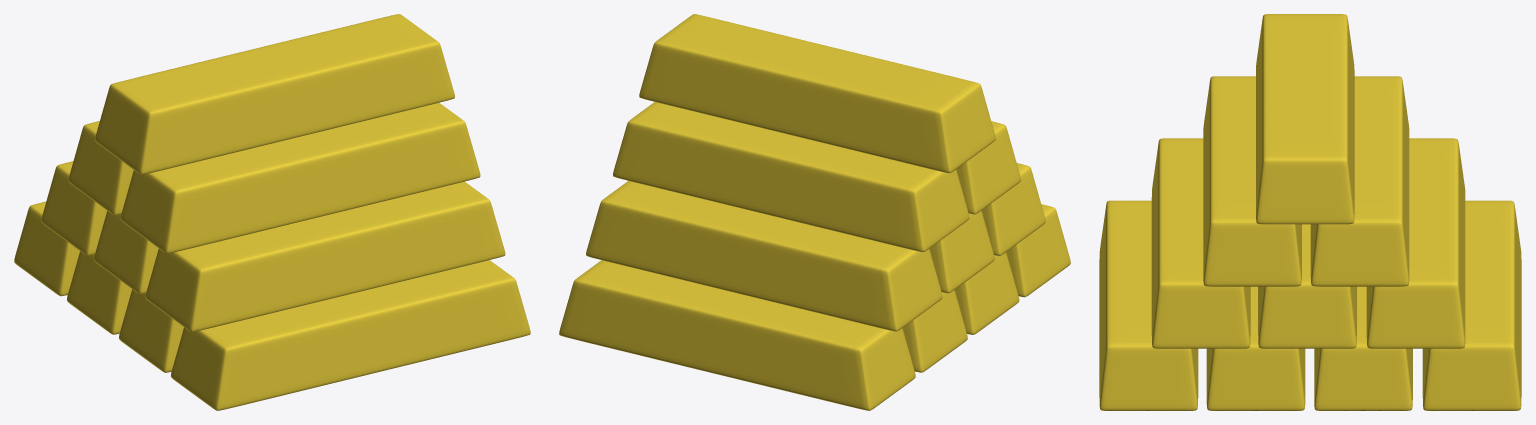
The model's file is Gold Pile.fbx.
3 views of the same model, side by side, from view 1: azimuth 30°, elevation 25°; view 2: azimuth 150°, elevation 25°; view 3: azimuth 270°, elevation 25° (orthographic). The views are drawn at different scales.
Parts seen in each view (by area): view 1: Gold.009, Gold.007, Gold, Gold.006, Gold.004, Gold.003, Gold.008, Gold.002, Gold.001, Gold.005; view 2: Gold.009, Gold.003, Gold.004, Gold.008, Gold.007, Gold, Gold.006, Gold.002, Gold.005, Gold.001; view 3: Gold.009, Gold.003, Gold.004, Gold.008, Gold, Gold.006, Gold.007, Gold.002, Gold.005, Gold.001.
Boxes of the visible parts, x1,y1,x2,y2 form: Gold.009: [95, 14, 454, 174]; Gold.007: [120, 103, 480, 253]; Gold: [171, 260, 530, 410]; Gold.006: [145, 181, 505, 331]; Gold.004: [41, 161, 106, 255]; Gold.003: [14, 201, 79, 296]; Gold.008: [68, 121, 133, 215]; Gold.002: [67, 251, 131, 334]; Gold.001: [119, 289, 183, 372]; Gold.005: [94, 211, 158, 294]; Gold.009: [639, 14, 995, 173]; Gold.003: [559, 260, 915, 410]; Gold.004: [586, 181, 942, 331]; Gold.008: [613, 102, 969, 252]; Gold.007: [956, 121, 1020, 214]; Gold: [1006, 204, 1070, 297]; Gold.006: [981, 163, 1045, 255]; Gold.002: [902, 290, 967, 372]; Gold.005: [929, 210, 994, 293]; Gold.001: [954, 252, 1019, 334]; Gold.009: [1256, 14, 1354, 224]; Gold.003: [1422, 200, 1521, 410]; Gold.004: [1366, 138, 1465, 348]; Gold.008: [1310, 76, 1409, 286]; Gold: [1099, 200, 1198, 410]; Gold.006: [1151, 138, 1250, 348]; Gold.007: [1203, 76, 1301, 286]; Gold.002: [1314, 286, 1412, 410]; Gold.005: [1258, 224, 1356, 348]; Gold.001: [1206, 286, 1305, 410].
Bounding box in the file's own units: 64.63 × 46.8 × 72.57.
